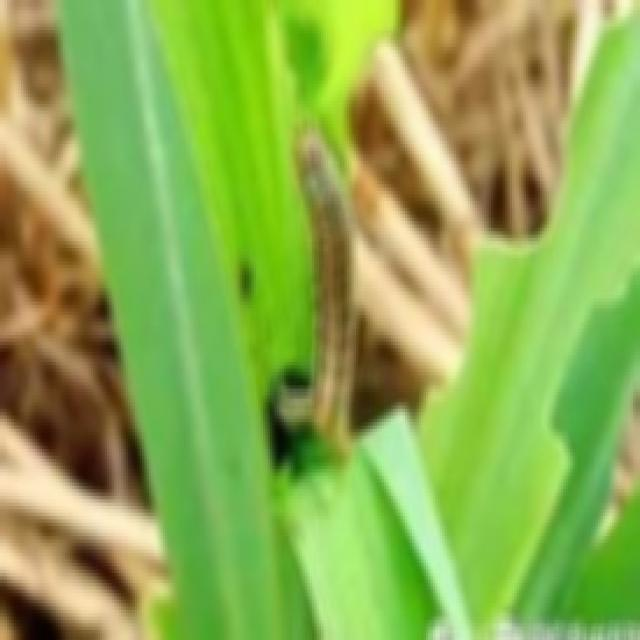army worm: (288, 117, 370, 455)
